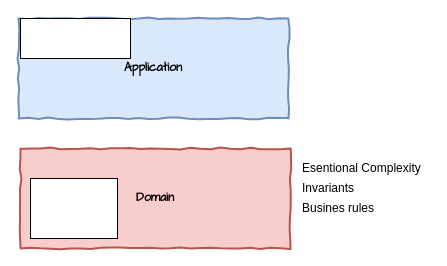
This 447x266 diagram has some shape labels left out. The shapes that lost their labels are listed below. From the top down, each one's centre as x and y in pixels, then its label:
At (x=75, y=38): "CreditCardFacade".
At (x=74, y=208): "CreditCard".
